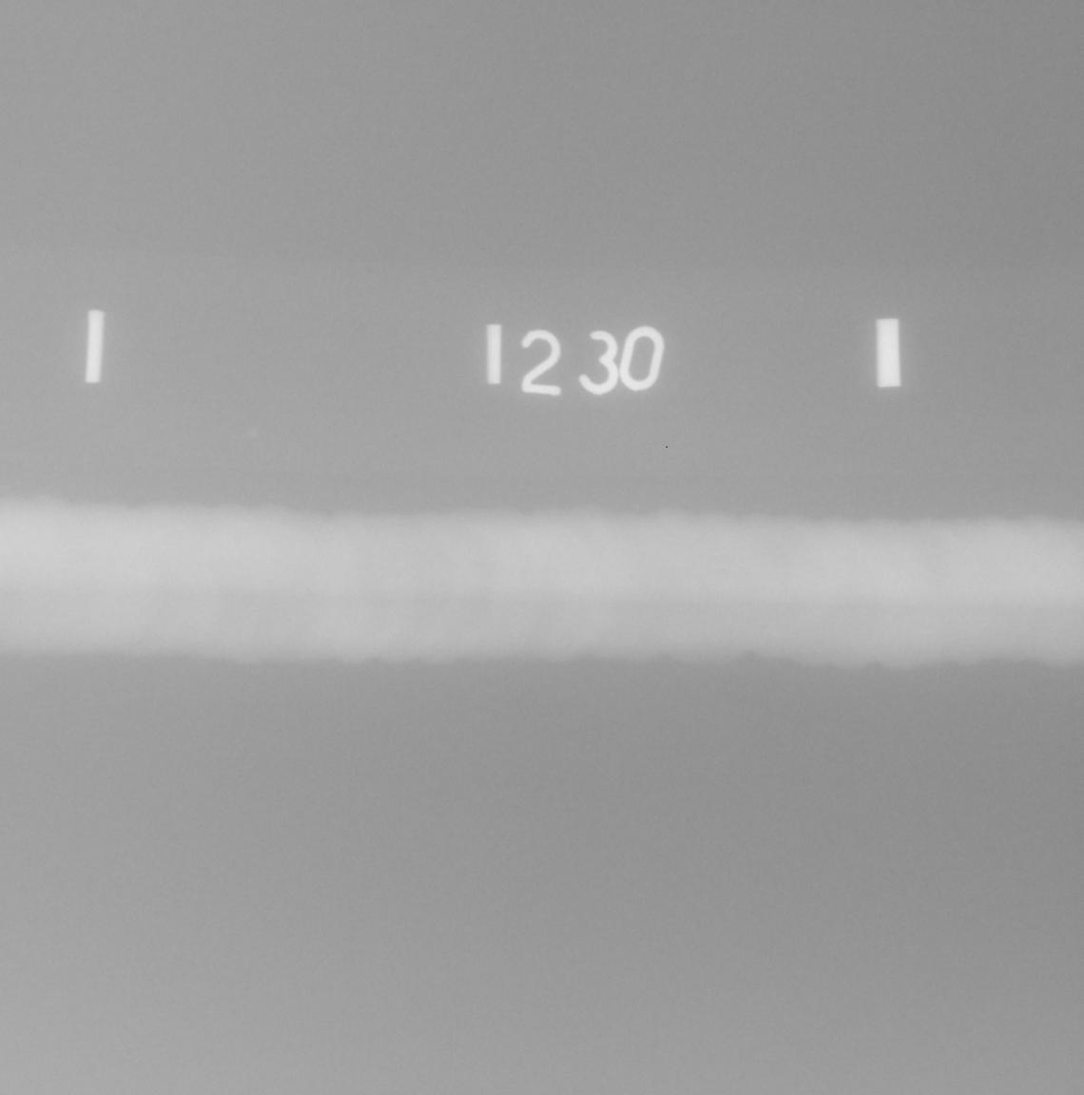Pore/Porosity: (721, 569, 726, 572)
